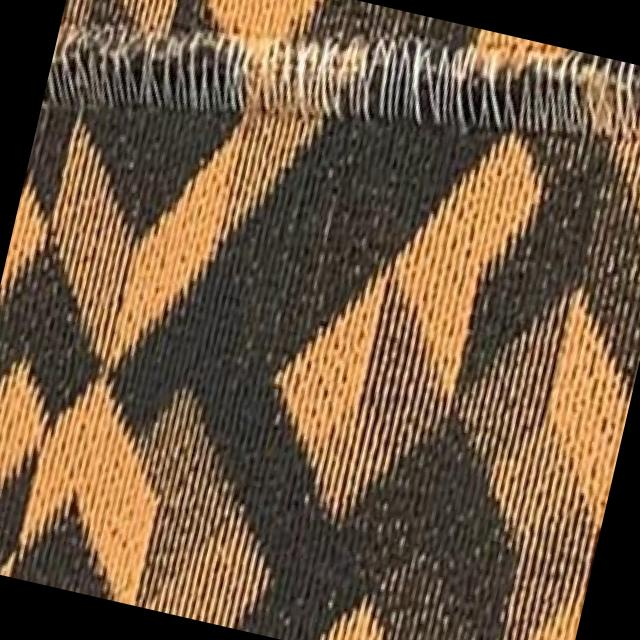gray stitch: (344, 5, 640, 188), (45, 0, 357, 168)
